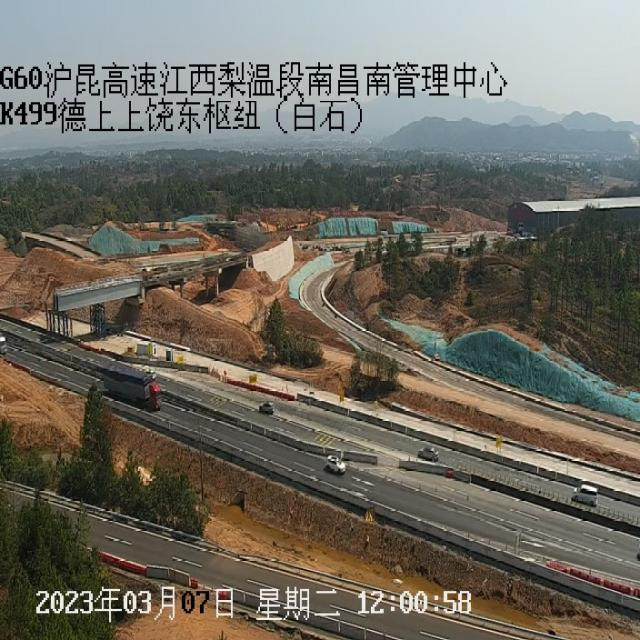point: (0, 309, 45, 365), (311, 244, 357, 288)
